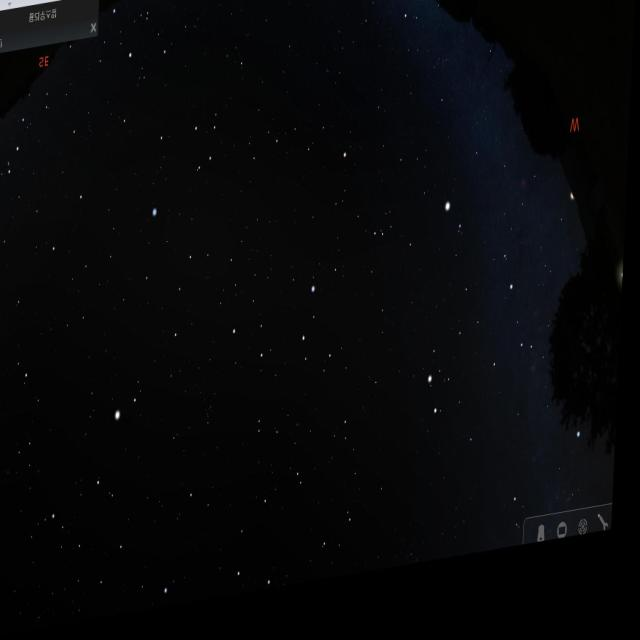bootes: (69, 387, 151, 606)
canis_minor: (439, 194, 475, 263)
gemini: (423, 301, 535, 444)
leo: (216, 274, 352, 408)
